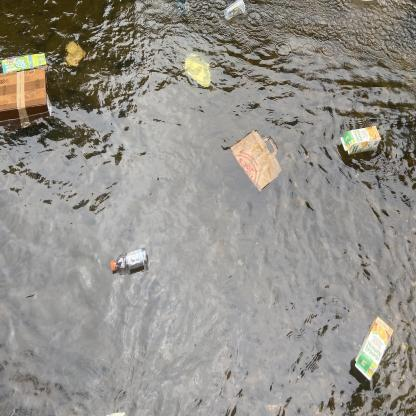trash: (228, 126, 285, 197), (0, 65, 56, 137), (352, 314, 397, 386), (176, 44, 216, 96), (336, 121, 384, 157), (0, 48, 52, 80), (107, 245, 152, 281), (61, 34, 90, 72), (218, 0, 249, 23)
